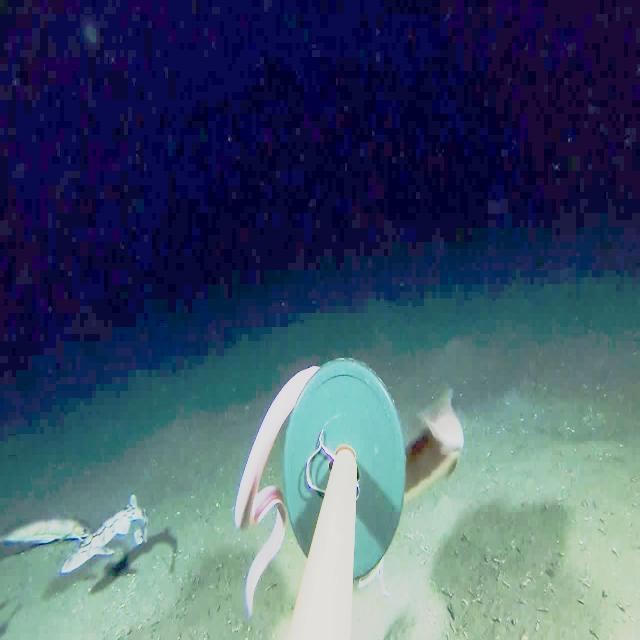eel: (216, 334, 332, 638)
fish: (63, 496, 155, 584), (410, 380, 470, 486), (0, 498, 84, 558)
pole: (285, 366, 404, 564)
